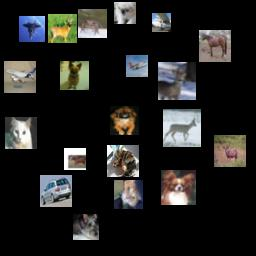airplane: (4, 61, 36, 93), (19, 16, 45, 42), (126, 55, 148, 77), (152, 13, 171, 32)
automobile: (40, 175, 72, 207)
cat: (5, 117, 37, 149), (107, 145, 139, 177), (114, 180, 143, 209)
deer: (158, 62, 196, 100), (163, 109, 201, 147), (214, 135, 246, 167), (48, 14, 77, 43)
dog: (161, 170, 196, 205), (60, 61, 89, 90), (110, 106, 139, 135), (73, 214, 99, 240), (114, 2, 136, 24)
frog: (78, 9, 107, 38)
